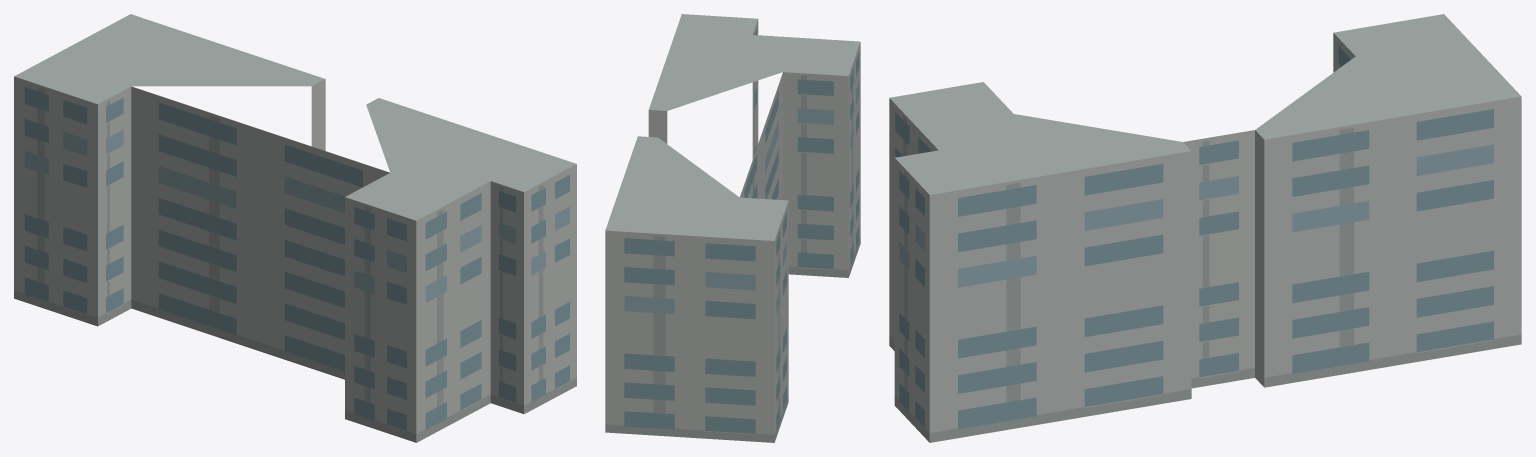
The model's file is residential-c635297c-538c-43bc-a58d-78235d170bc3.glb.
3 renders of one model, left to right at view 1: azimuth 30°, elevation 25°; view 2: azimuth 150°, elevation 25°; view 3: azimuth 270°, elevation 25°, orthographic. The views are drawn at different scales.
Visible parts, largest first — view 1: residential-c635297c-538c-43bc-a58d-78235d170bc3.tmp; view 2: residential-c635297c-538c-43bc-a58d-78235d170bc3.tmp; view 3: residential-c635297c-538c-43bc-a58d-78235d170bc3.tmp.
Part boxes in pixels (bbox=[...]): residential-c635297c-538c-43bc-a58d-78235d170bc3.tmp: bbox=[14, 14, 576, 442]; residential-c635297c-538c-43bc-a58d-78235d170bc3.tmp: bbox=[605, 14, 860, 442]; residential-c635297c-538c-43bc-a58d-78235d170bc3.tmp: bbox=[889, 14, 1521, 442].
Size of the model in its own units: 33.45 by 21.35 by 49.37.
